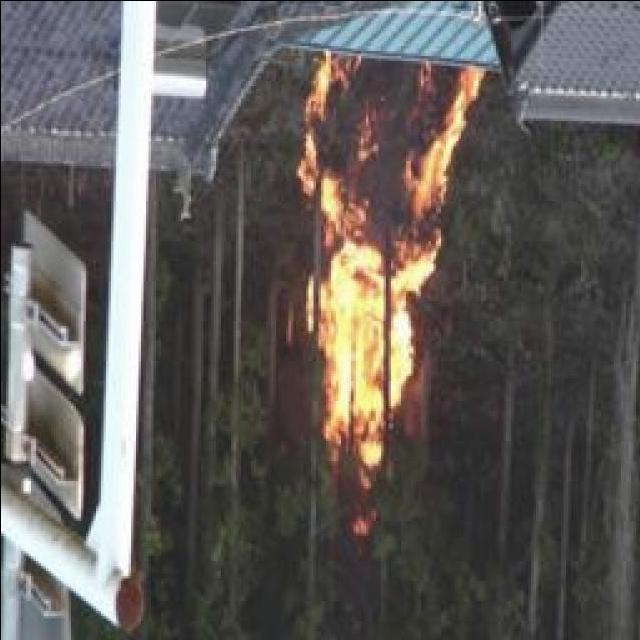Fire: (296, 51, 472, 470)
